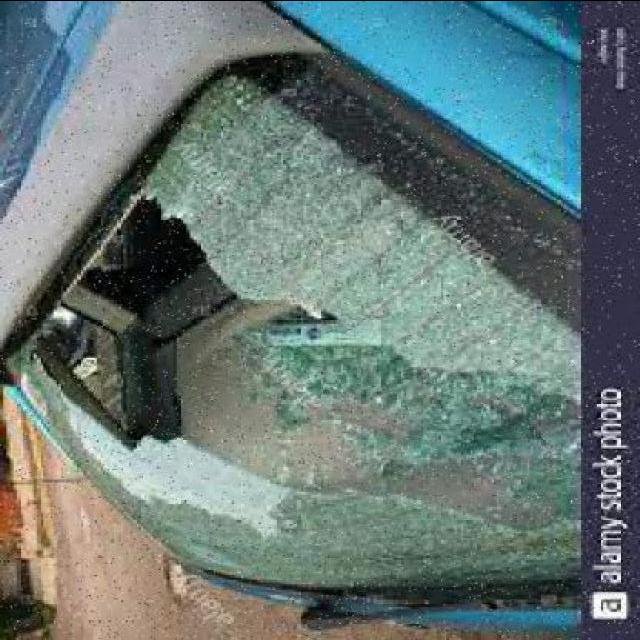Rear-windscreen-Damage: (5, 103, 582, 624)
